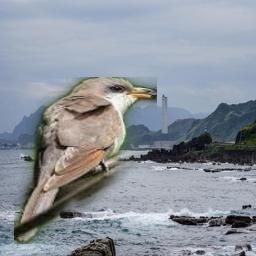Cuckoo: (14, 77, 157, 244)
